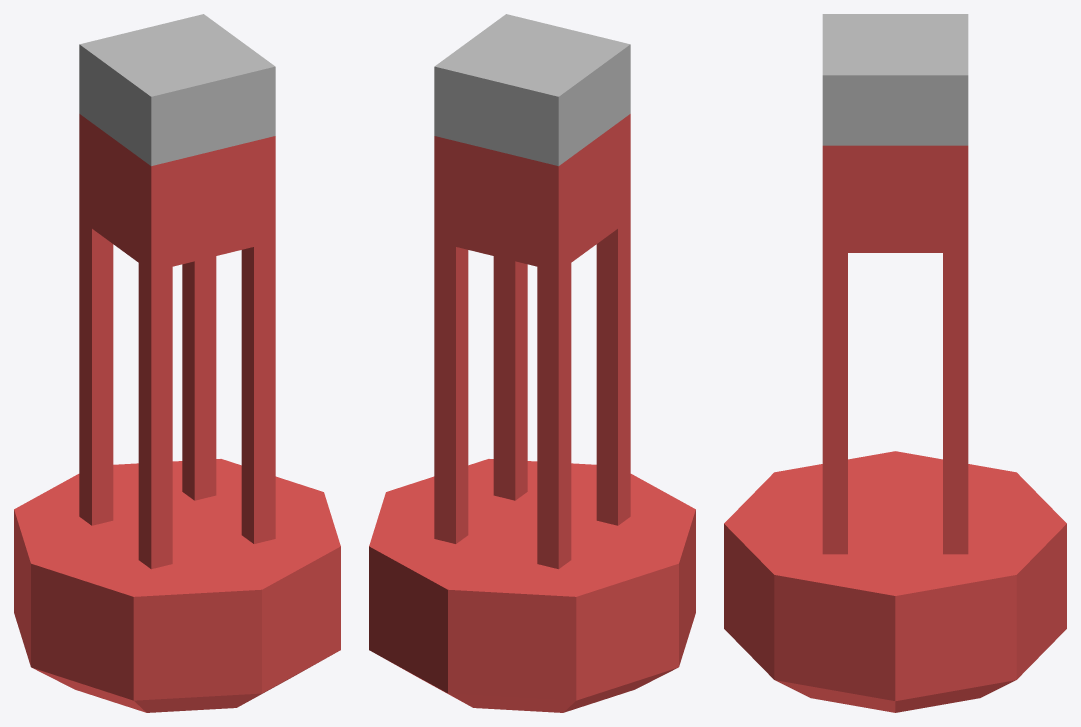
File: buoy.obj
The picture shows the model from 3 angles, left to right: view 1: azimuth 30°, elevation 25°; view 2: azimuth 150°, elevation 25°; view 3: azimuth 270°, elevation 25°; orthographic projection.
Parts seen in each view (by area): view 1: Mesh1 Group1 Model; view 2: Mesh1 Group1 Model; view 3: Mesh1 Group1 Model.
Boxes of the visible parts, x1,y1,x2,y2 form: Mesh1 Group1 Model: (14,14,340,712); Mesh1 Group1 Model: (369,14,695,712); Mesh1 Group1 Model: (724,14,1066,712).
Size of the model in its own units: 0.9282 by 1.84 by 0.9282.
